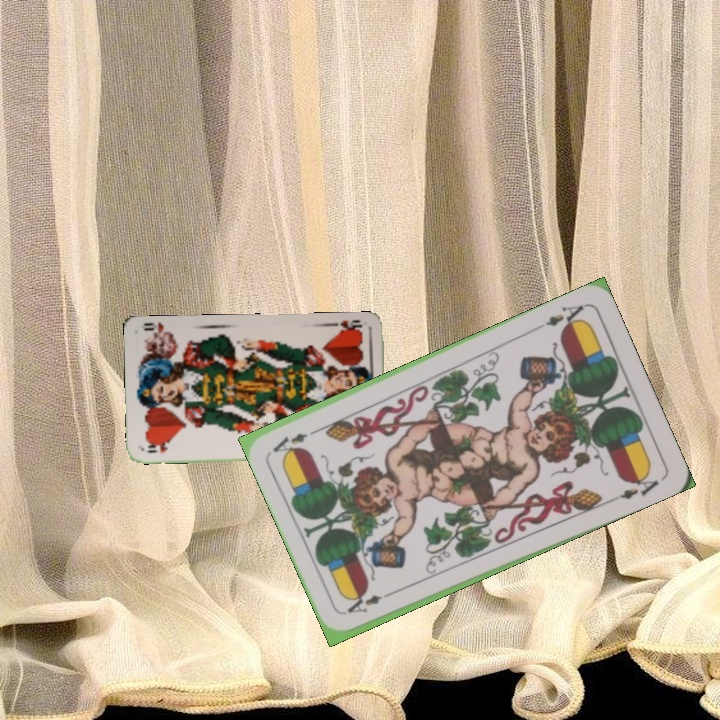EA: (343, 587, 398, 616), (542, 300, 588, 333)
HO: (334, 316, 365, 335), (144, 439, 173, 455)
